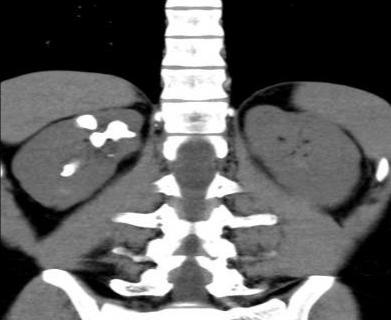Tas_Var: (88, 116, 136, 150), (72, 110, 101, 132), (58, 162, 76, 179), (106, 150, 115, 158)
